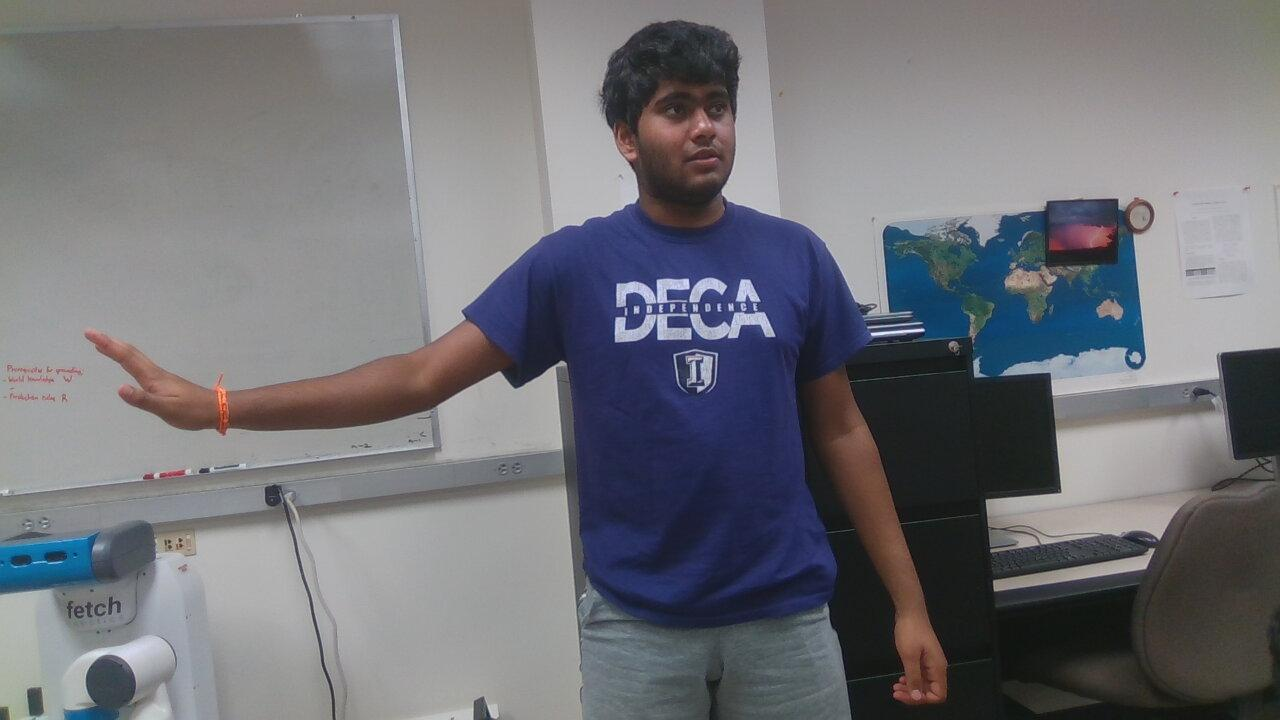hands: (81, 327, 231, 445), (876, 602, 965, 714)
